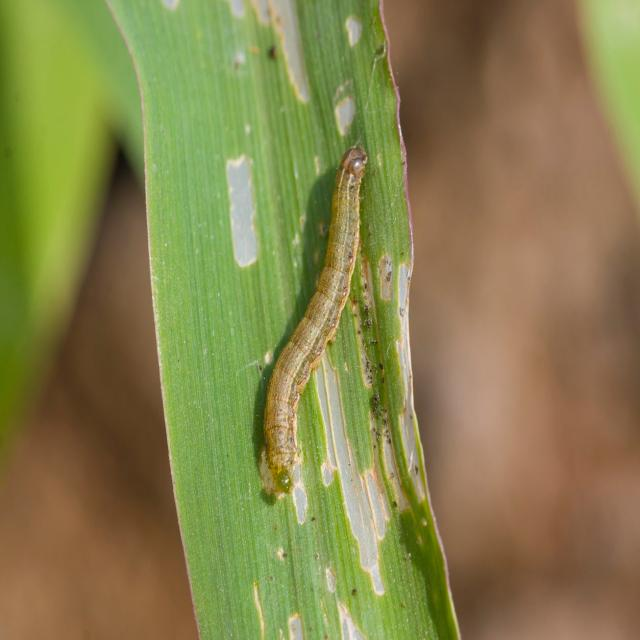pest-armyworm: (256, 131, 373, 508)
